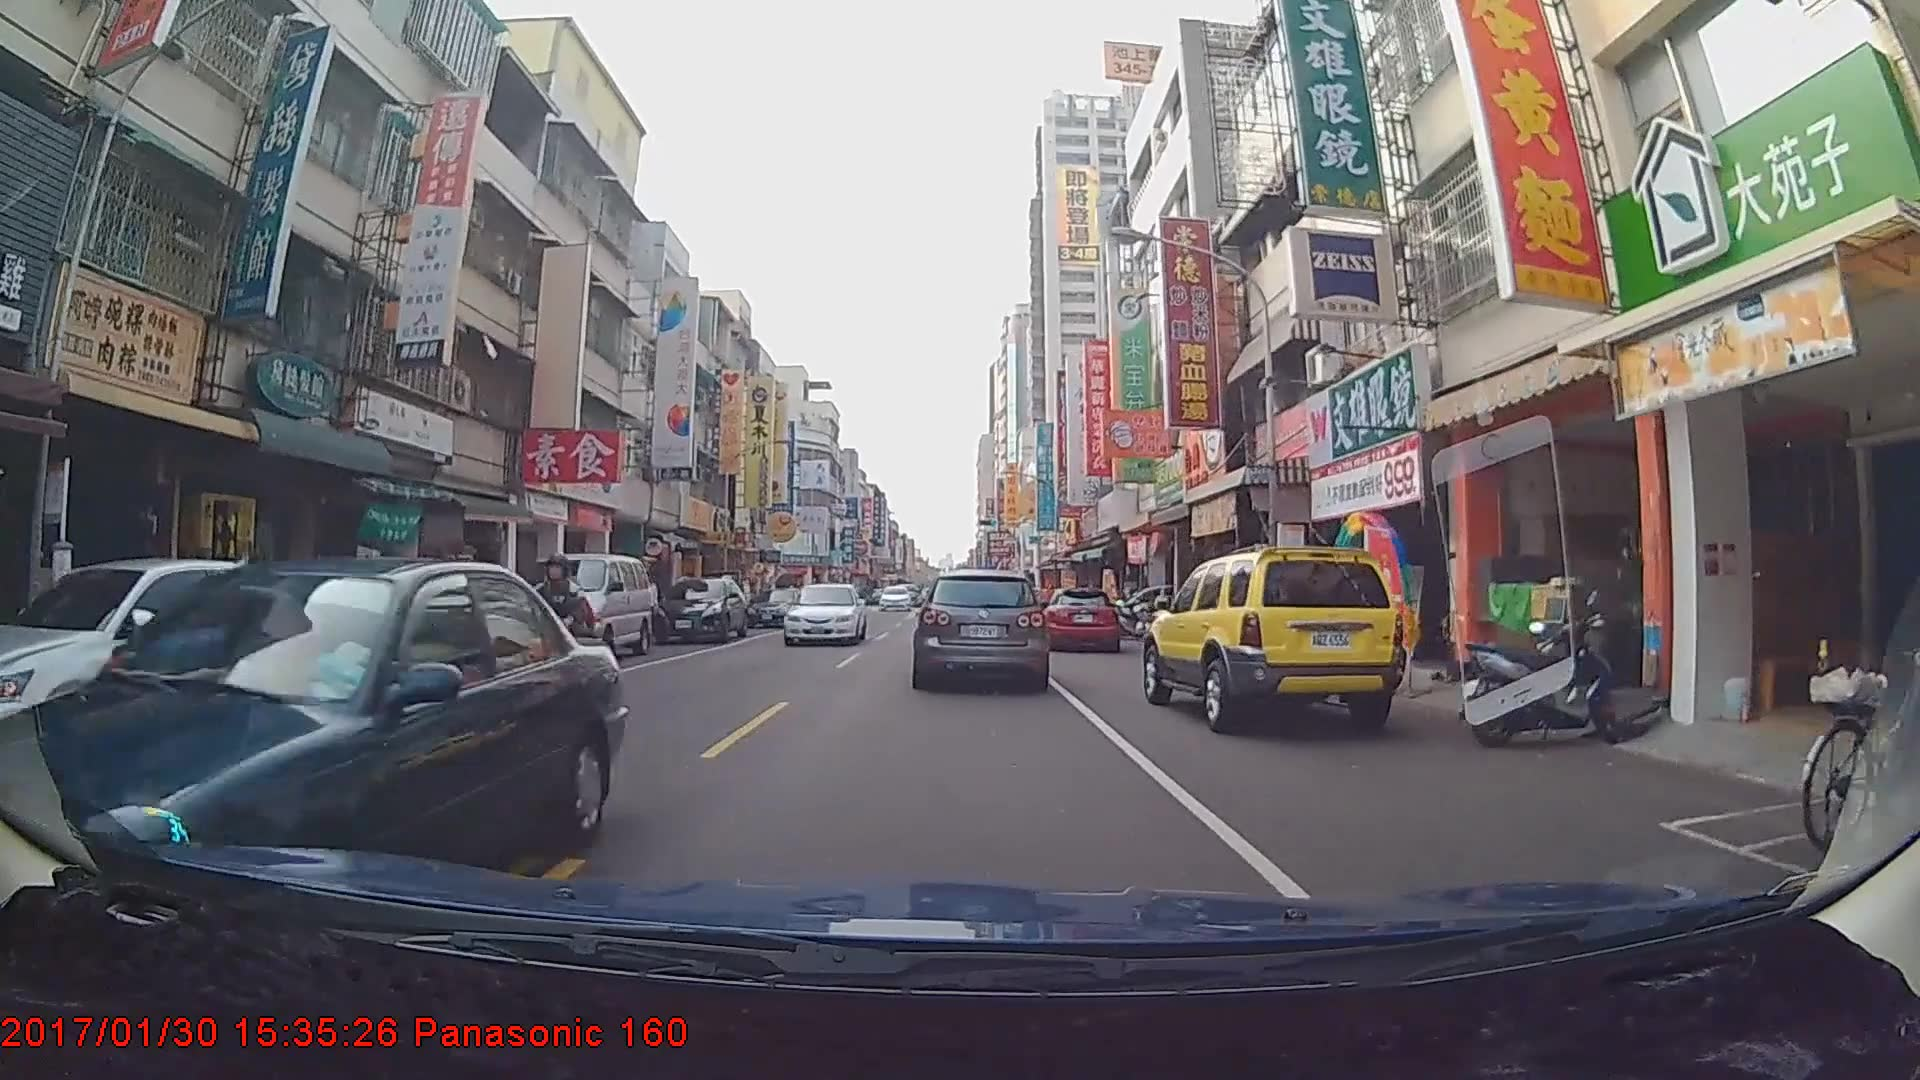vehicle: (0, 554, 628, 938), (0, 558, 351, 803), (1142, 541, 1404, 729), (915, 568, 1048, 688), (512, 553, 651, 662), (647, 575, 746, 644), (781, 582, 866, 646), (1038, 587, 1121, 651), (746, 588, 807, 630), (880, 585, 911, 612)
